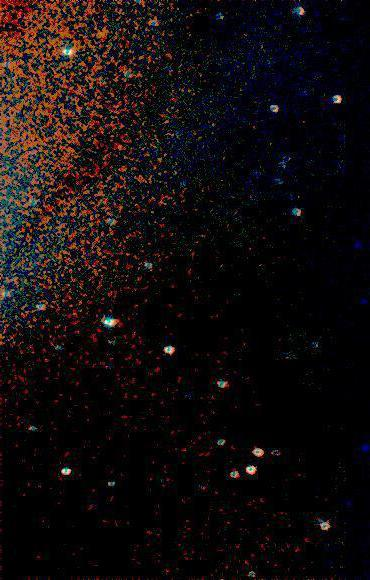star: (87, 18, 117, 48)
